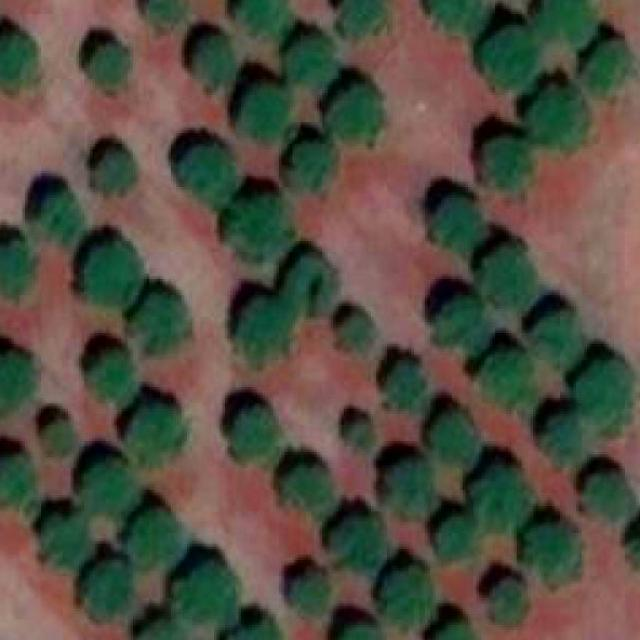Tree: (568, 355, 634, 428), (79, 241, 142, 311), (170, 558, 236, 623), (223, 195, 291, 257), (470, 466, 533, 531), (524, 522, 587, 587), (174, 147, 242, 207), (120, 401, 188, 461), (477, 244, 536, 310), (322, 515, 387, 574), (279, 250, 338, 314), (579, 41, 637, 106), (322, 87, 382, 149), (382, 566, 436, 634), (76, 461, 138, 520), (233, 295, 291, 358), (385, 457, 442, 520), (436, 295, 493, 355), (470, 136, 533, 190), (482, 27, 536, 90), (82, 555, 136, 617), (127, 290, 185, 347), (44, 514, 99, 572), (531, 87, 585, 145), (128, 506, 182, 563), (430, 198, 484, 255), (430, 406, 479, 464), (243, 82, 295, 136), (532, 0, 592, 46), (533, 306, 579, 363), (30, 193, 84, 241), (484, 352, 533, 404), (281, 463, 333, 511), (288, 32, 334, 84), (282, 142, 331, 190), (0, 33, 39, 91), (84, 347, 128, 396), (189, 36, 230, 88), (582, 474, 628, 520), (0, 352, 36, 410), (425, 0, 482, 36), (232, 409, 274, 457), (385, 358, 428, 404), (0, 239, 36, 293), (90, 150, 136, 192), (434, 512, 480, 554), (0, 454, 36, 506), (488, 574, 526, 623), (335, 0, 384, 38), (331, 314, 377, 354), (542, 414, 584, 457), (138, 0, 190, 34), (239, 0, 287, 36), (93, 44, 131, 88), (288, 570, 330, 608), (41, 417, 77, 458), (214, 619, 282, 640), (142, 612, 188, 640), (338, 414, 369, 447), (436, 622, 479, 640), (331, 625, 379, 640), (630, 522, 640, 576)
